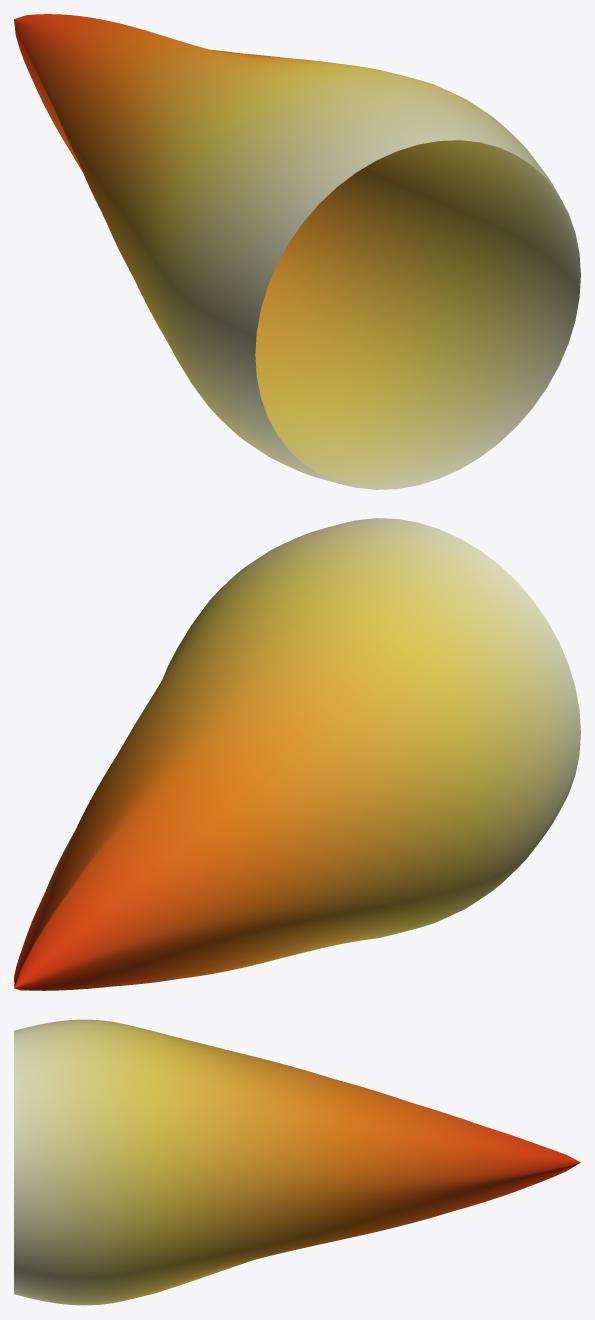
File: flame.obj
3 views of the same model, one above another, from view 1: azimuth 30°, elevation 25°; view 2: azimuth 150°, elevation 25°; view 3: azimuth 270°, elevation 25° (orthographic). The views are drawn at different scales.
Visible parts, largest first — view 1: flame; view 2: flame; view 3: flame.
Part boxes in pixels (left/top/right/bottom): flame: left=14, top=14, right=580, bottom=489; flame: left=14, top=518, right=580, bottom=990; flame: left=14, top=1019, right=580, bottom=1305.
Size of the model in its own units: 2.17 by 2.17 by 4.3.
